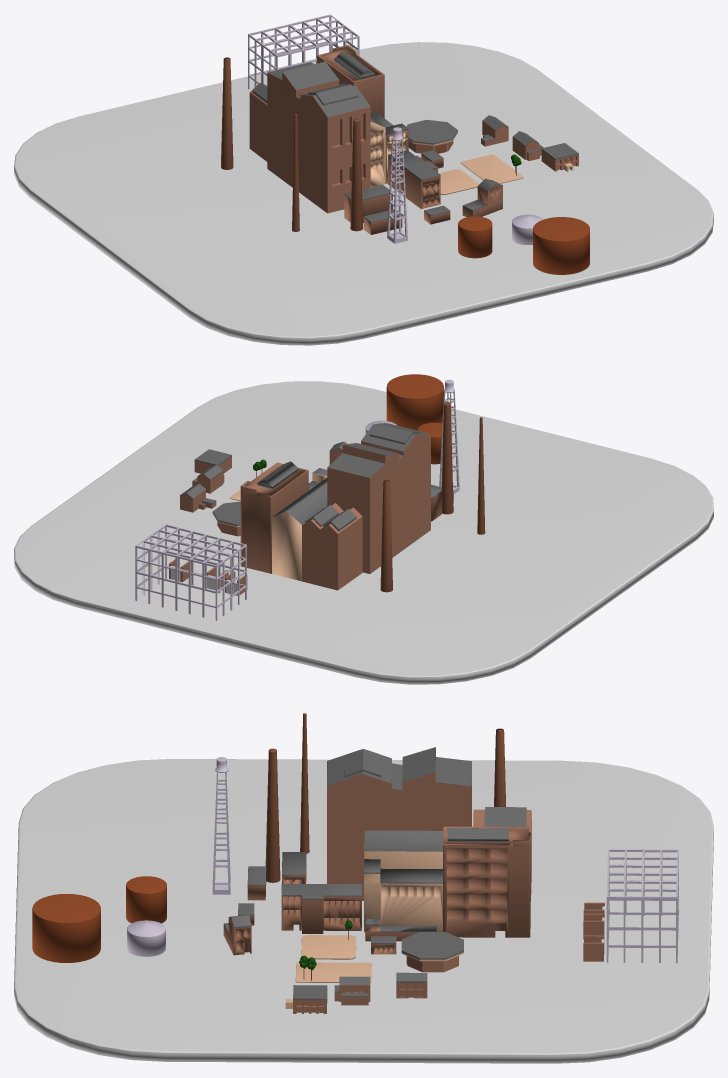
File: map-bachelors.glb
3 renders of one model, top to bottom at view 1: azimuth 30°, elevation 25°; view 2: azimuth 150°, elevation 25°; view 3: azimuth 270°, elevation 25°, orthographic. The views are drawn at different scales.
Parts seen in each view (by area): view 1: ground, Cube.009, Cube, Cylinder, Cube.010, Cube.001, Cube.007, Cylinder.002, Circle, Circle.001, Circle.003, Cube.005 (+13 smaller); view 2: ground, Cube.009, Cube, Cube.001, Cube.003, Cylinder, Cube.005, Cube.004, Circle.003, Circle.001, Circle, Cube.007 (+7 smaller); view 3: ground, Cube.009, Cube.001, Cube.002, Cylinder, Cube.010, Cube, Cube.003, Circle, Cylinder.002, Circle.001, Plane (+14 smaller).
Boxes of the visible parts, x1,y1,x2,y2 form: ground: [14, 42, 713, 345]; Cube.009: [267, 61, 370, 213]; Cube: [248, 14, 359, 89]; Cylinder: [533, 217, 589, 274]; Cube.010: [388, 150, 440, 208]; Cube.001: [317, 45, 384, 117]; Cube.007: [387, 139, 407, 243]; Cylinder.002: [458, 216, 492, 258]; Circle: [406, 119, 457, 153]; Circle.001: [350, 118, 362, 231]; Circle.003: [221, 57, 233, 169]; Cube.005: [249, 83, 267, 161]; ground: [14, 381, 713, 684]; Cube.009: [327, 423, 430, 573]; Cube: [135, 524, 246, 620]; Cube.001: [240, 462, 308, 573]; Cube.003: [272, 478, 327, 581]; Cylinder: [386, 374, 443, 430]; Cube.005: [320, 507, 362, 590]; Cube.004: [302, 503, 343, 585]; Circle.003: [380, 480, 392, 592]; Circle.001: [441, 402, 453, 514]; Circle: [212, 501, 240, 536]; Cube.007: [439, 392, 459, 494]; ground: [14, 759, 713, 1063]; Cube.009: [327, 747, 471, 900]; Cube.001: [443, 826, 530, 937]; Cube.002: [364, 859, 442, 932]; Cylinder: [32, 894, 100, 962]; Cube.010: [281, 884, 361, 933]; Cube: [606, 849, 678, 963]; Cube.003: [364, 830, 443, 868]; Circle: [401, 932, 463, 972]; Cylinder.002: [126, 876, 166, 923]; Circle.001: [265, 748, 280, 882]; Plane: [301, 935, 356, 959].
Size of the model in its own units: 10.91 by 2.58 by 10.91.
